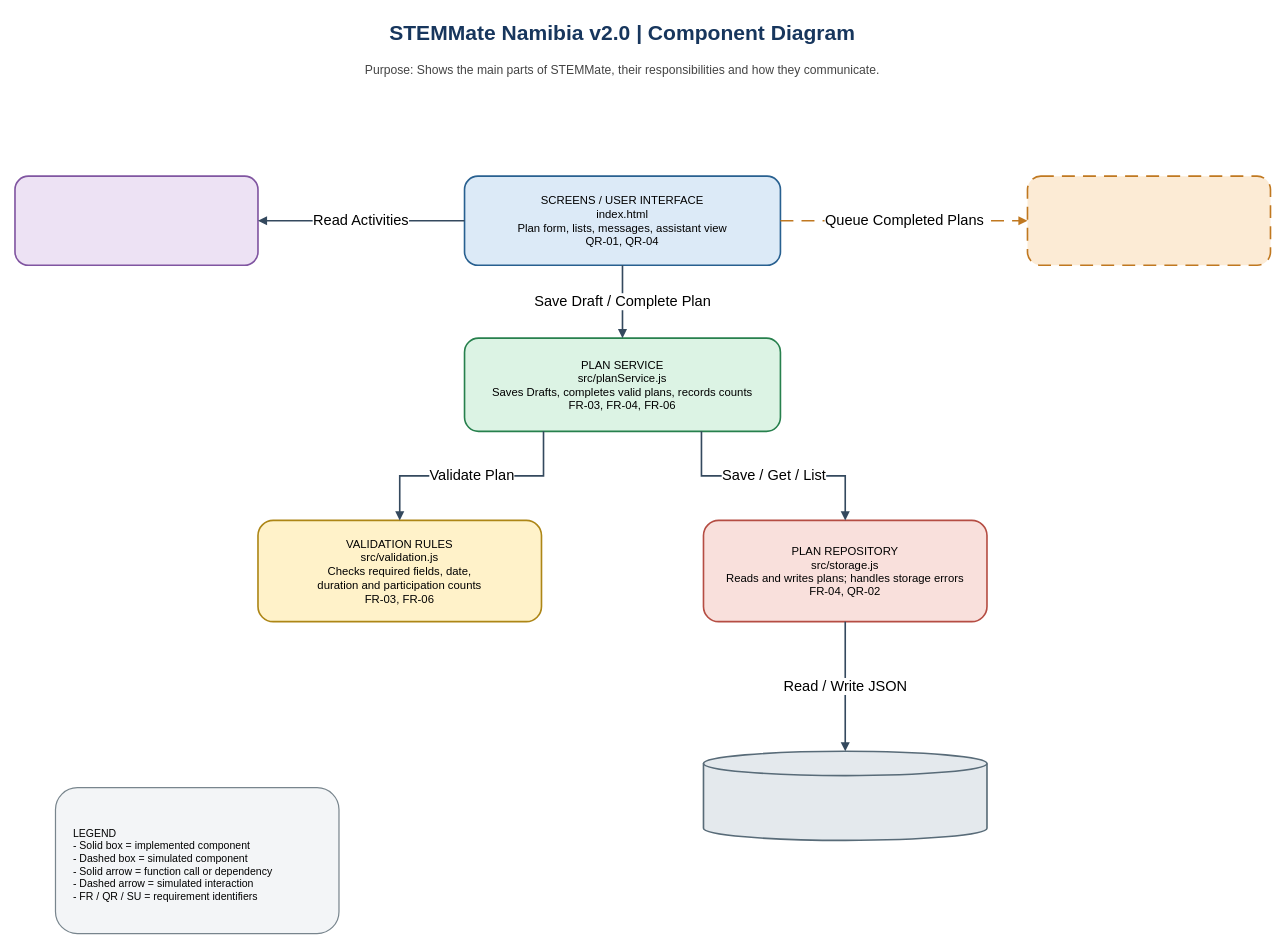
This 1285x948 diagram has some shape labels left out. Here are the shapes that lost their labels. From the top down, the centre of each, then its label:
At (x=136, y=220): "ACTIVITY CATALOGUE Data in index.html Six sample STEM activities FR-01, SU-02".
At (x=1148, y=220): "SIMULATED SYNC QUEUE Logic in index.html Pending, Synced, Failed, Conflict FR-05".
At (x=844, y=795): "BROWSER LOCAL STORAGE Plans and Drafts stored on the device FR-04".
